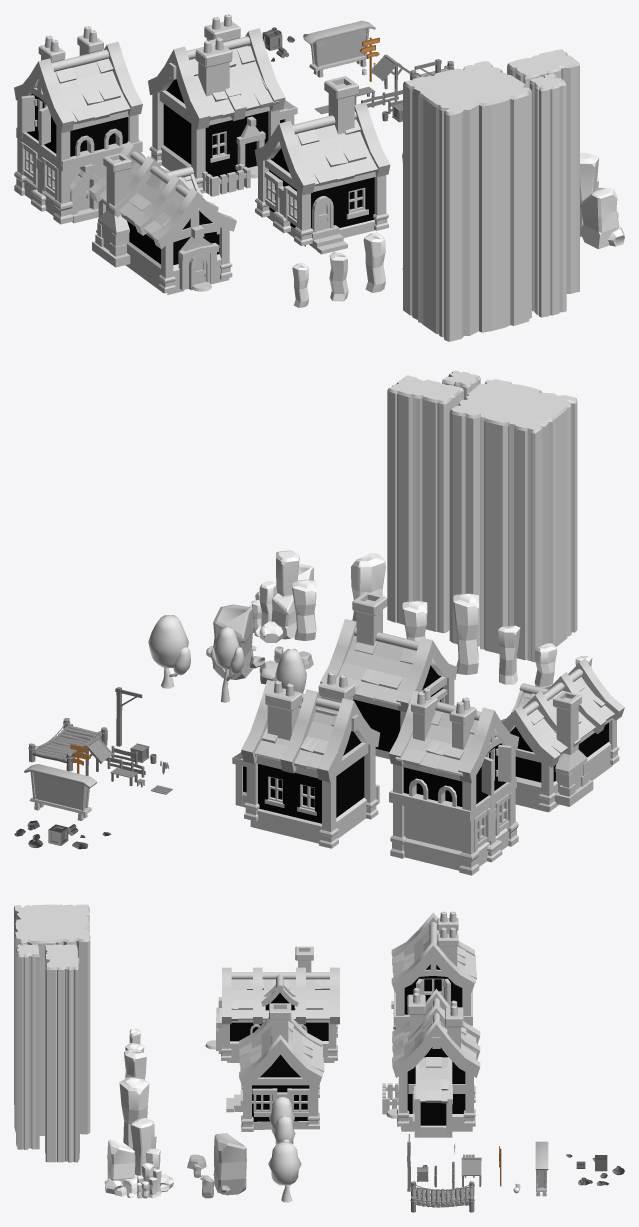
Rendered from assets.fbx.
3 views of the same model, one above another, from view 1: azimuth 30°, elevation 25°; view 2: azimuth 150°, elevation 25°; view 3: azimuth 270°, elevation 25° (orthographic). The views are drawn at different scales.
Visible parts, largest first — view 1: floor_01, House_1, House_4, House_2, House_3, floor_03, floor_02, stone_20, Board, stone_16, stone_15, stone_14 (+1 smaller); view 2: floor_01, House_1, House_4, floor_02, House_3, House_2, stone_20, Board, tree_05, stone_17, bridge_01, stone_11 (+6 smaller); view 3: House_4, House_3, House_2, floor_02, floor_01, House_1, floor_03, stone_20, stone_11, stone_19, bridge_01, tree_05 (+5 smaller).
Boxes of the visible parts, x1,y1,x2,y2 form: floor_01: (403, 61, 531, 341); House_1: (14, 26, 142, 224); House_4: (148, 14, 297, 196); House_2: (254, 76, 390, 254); House_3: (89, 141, 236, 294); floor_03: (529, 73, 566, 317); floor_02: (507, 49, 579, 293); stone_20: (580, 152, 624, 249); Board: (303, 20, 375, 77); stone_16: (363, 232, 385, 292); stone_15: (329, 251, 348, 301); stone_14: (292, 263, 309, 307); floor_01: (449, 379, 577, 662); House_1: (389, 688, 519, 875); House_4: (232, 672, 380, 848); floor_02: (387, 375, 463, 633); House_3: (501, 658, 624, 812); House_2: (320, 592, 457, 759); stone_20: (249, 550, 316, 642); Board: (24, 764, 97, 820); tree_05: (148, 615, 190, 688); stone_17: (453, 593, 478, 674); bridge_01: (28, 718, 107, 771); stone_11: (212, 604, 253, 679); House_4: (382, 988, 480, 1137); House_3: (205, 946, 339, 1062); House_2: (226, 1003, 324, 1131); floor_02: (45, 944, 79, 1162); floor_01: (14, 904, 90, 1135); House_1: (391, 911, 476, 1029); floor_03: (16, 944, 39, 1149); stone_20: (104, 1118, 173, 1198); stone_11: (214, 1133, 246, 1195); stone_19: (119, 1077, 149, 1148); bridge_01: (410, 1181, 474, 1212); tree_05: (268, 1142, 301, 1202).
Size of the model in its own units: 656 by 336 by 911.
